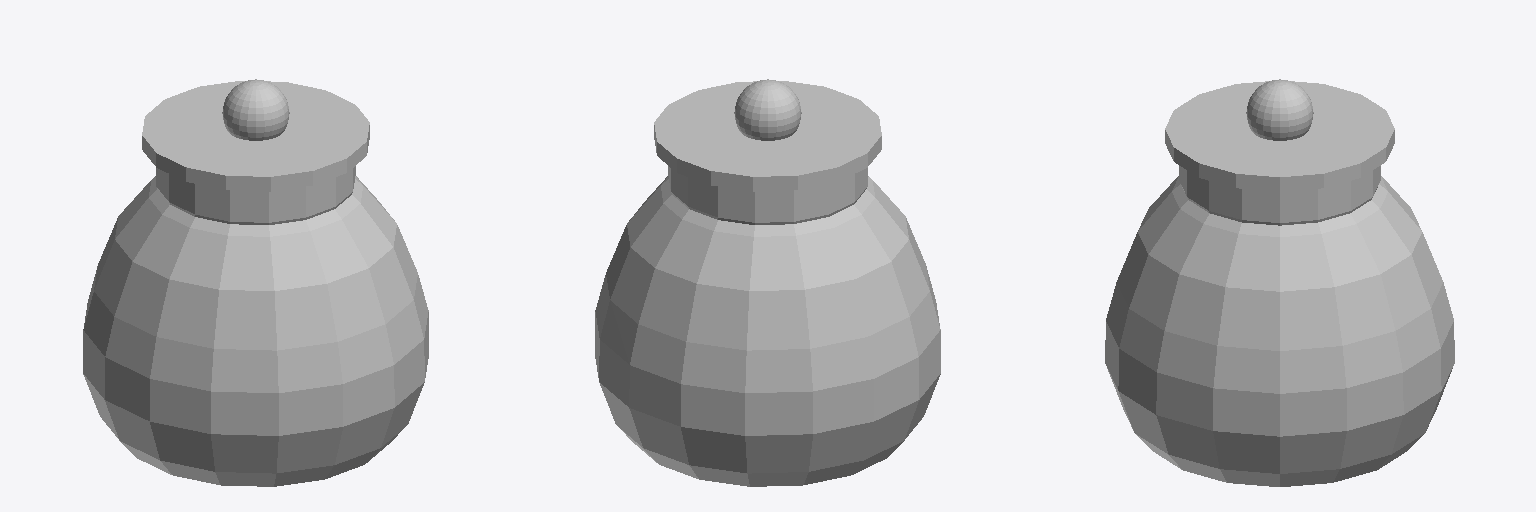
The model's file is SetA_Container_Style_10.obj.
The picture shows the model from 3 angles: view 1: azimuth 30°, elevation 25°; view 2: azimuth 150°, elevation 25°; view 3: azimuth 270°, elevation 25°; orthographic projection.
Visible parts, largest first — view 1: SetA_Container_Style_10; view 2: SetA_Container_Style_10; view 3: SetA_Container_Style_10.
Boxes of the visible parts, x1,y1,x2,y2 form: SetA_Container_Style_10: [83, 79, 428, 486]; SetA_Container_Style_10: [595, 79, 940, 486]; SetA_Container_Style_10: [1105, 79, 1454, 486].
Bounding box in the file's own units: 0.2131 × 0.2332 × 0.2131.